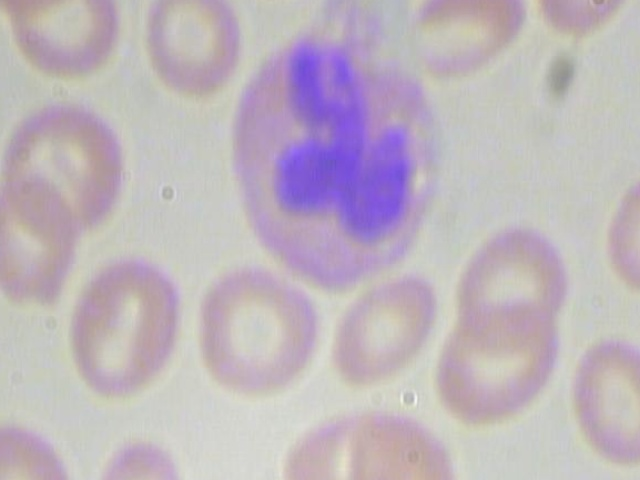RBC: (57, 248, 192, 405), (0, 95, 137, 249), (442, 214, 574, 363), (190, 266, 319, 409), (429, 300, 564, 431), (326, 268, 442, 395), (396, 0, 530, 90), (0, 166, 85, 306), (140, 0, 249, 105), (563, 328, 640, 475), (278, 397, 412, 480), (336, 400, 467, 480), (77, 433, 209, 480), (0, 406, 74, 480)
WBC: (221, 15, 455, 292)
